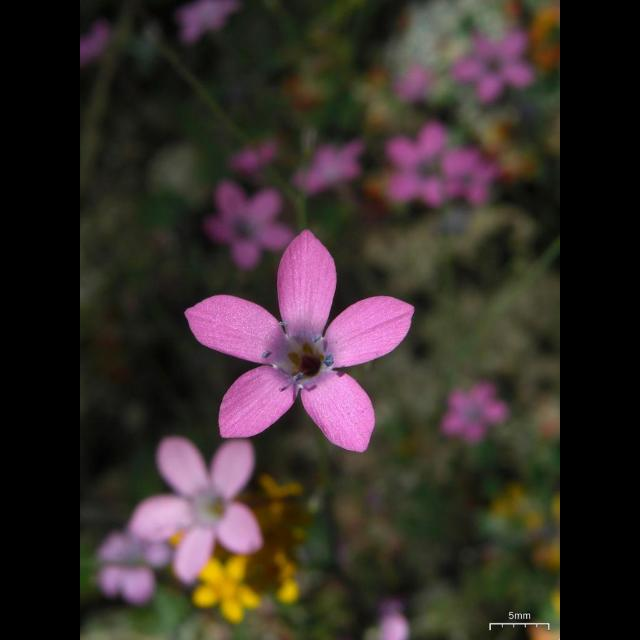Flower: (192, 227, 402, 456), (131, 435, 259, 585), (205, 182, 292, 262), (446, 29, 536, 101), (379, 124, 451, 212), (102, 518, 168, 602), (192, 553, 258, 623), (292, 137, 358, 196), (444, 386, 508, 440), (445, 148, 495, 208)
